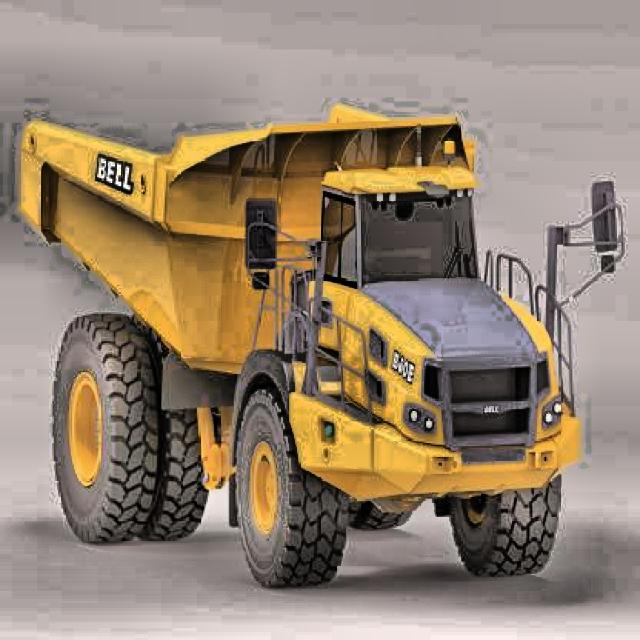dump_truck: (15, 95, 584, 583)
